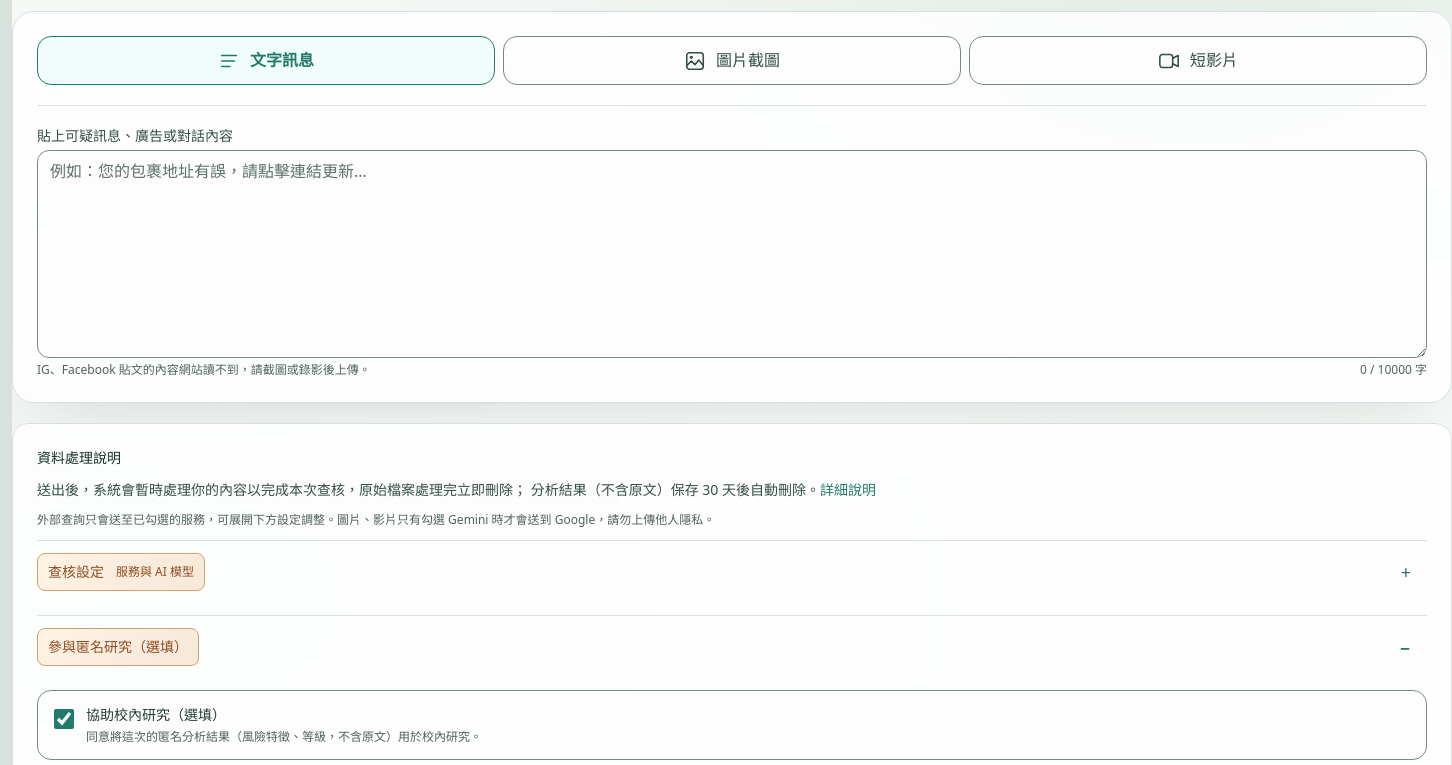
Test: AI 模型冷卻 › 沒有冷卻時不會閃爍（勾選框一直可用）
Click the heading "查核設定 服務與 AI 模型": (121, 572) [37, 553, 205, 591]
(page scrolled)
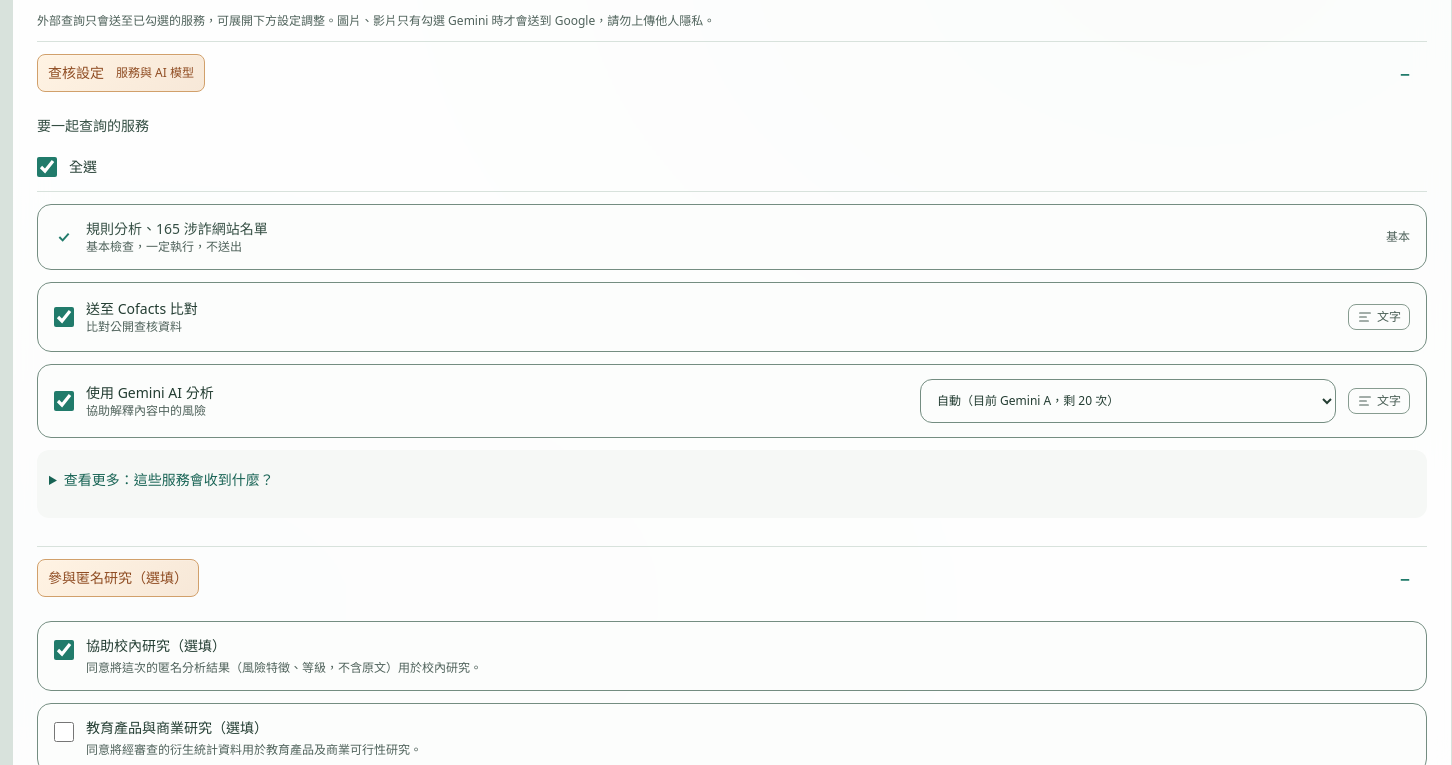
Expected: the checkbox labelled "使用 Gemini AI 分析 協助解釋內容中的風險" is enabled, [54, 391, 74, 411]
Expected: the checkbox labelled "使用 Gemini AI 分析 協助解釋內容中的風險" is checked, [54, 391, 74, 411]
